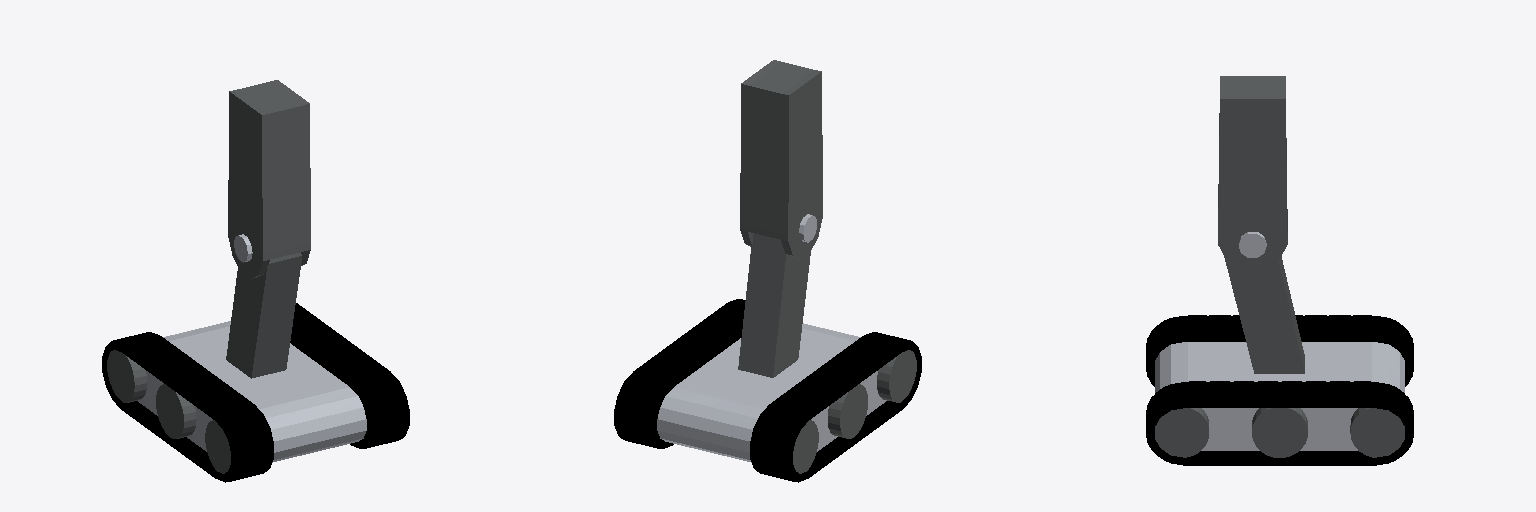
File: model-body.obj
3 renders of one model, left to right at view 1: azimuth 30°, elevation 25°; view 2: azimuth 150°, elevation 25°; view 3: azimuth 270°, elevation 25°, orthographic.
Visible parts, largest first — view 1: mesh_body; view 2: mesh_body; view 3: mesh_body.
Part boxes in pixels (left/top/right/bottom): mesh_body: left=102, top=80, right=409, bottom=482; mesh_body: left=614, top=60, right=921, bottom=482; mesh_body: left=1146, top=76, right=1413, bottom=465.
Size of the model in its own units: 0.1432 by 0.2629 by 0.1897.